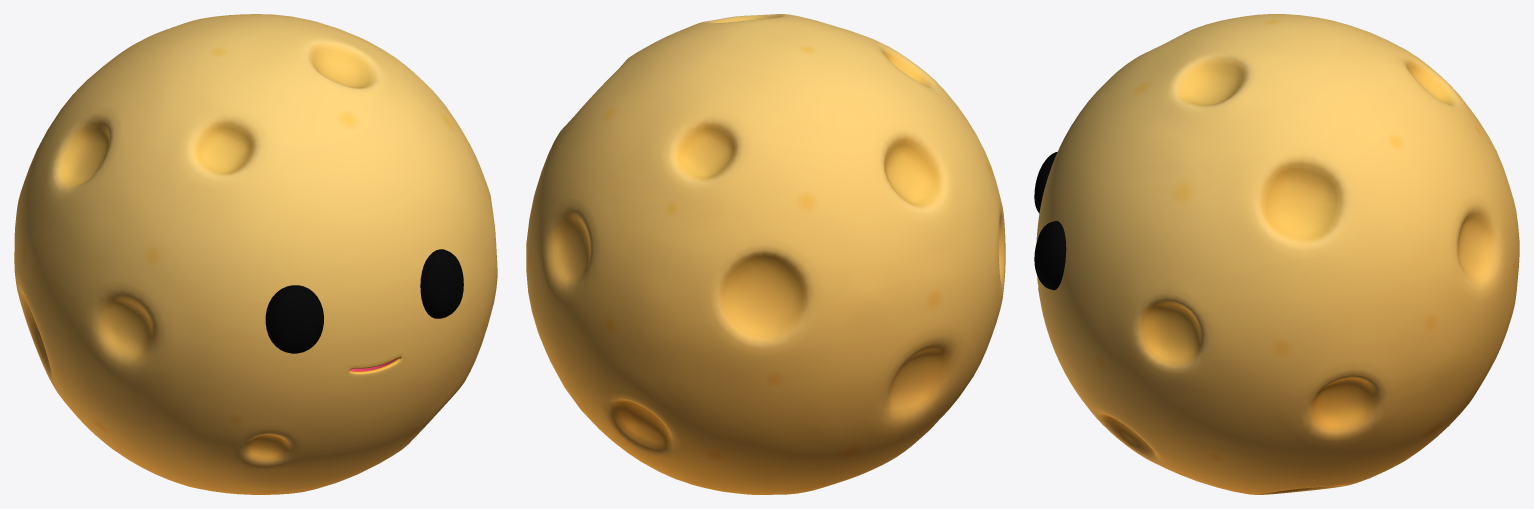
Rendered from moon.glb.
The picture shows the model from 3 angles, left to right: view 1: azimuth 30°, elevation 25°; view 2: azimuth 150°, elevation 25°; view 3: azimuth 270°, elevation 25°; orthographic projection.
Parts seen in each view (by area): view 1: Moon; view 2: Moon; view 3: Moon.
Boxes of the visible parts, left/top/right/bottom form: Moon: left=14, top=14, right=497, bottom=494; Moon: left=526, top=14, right=1005, bottom=494; Moon: left=1034, top=14, right=1519, bottom=494.
Bounding box in the file's own units: 0.3597 × 0.3595 × 0.3627.
1 material, 1 textured.
